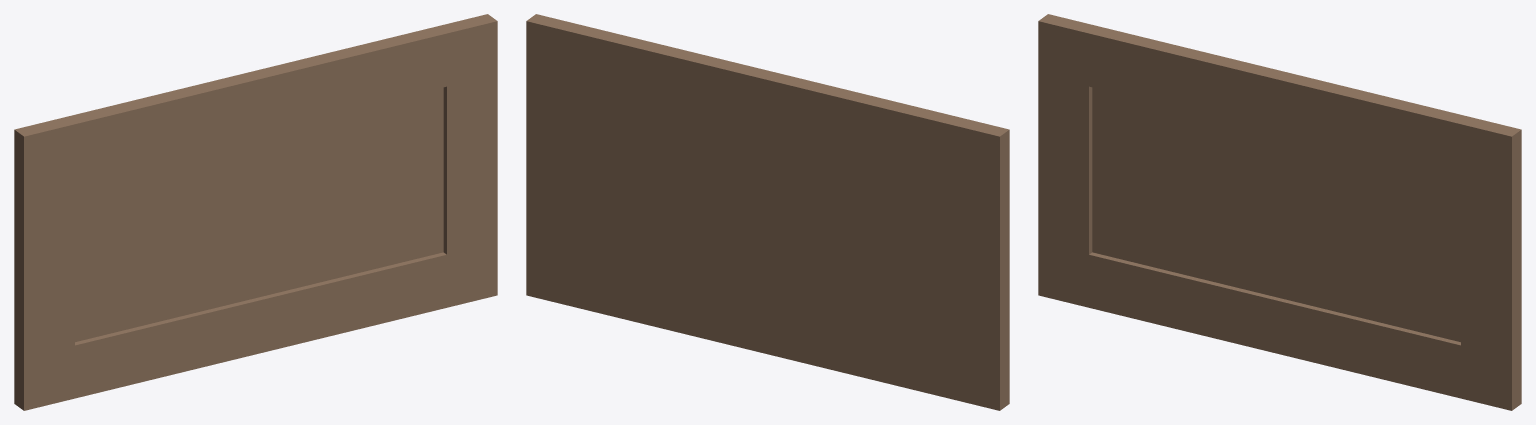
File: drawer_front_05.obj
3 renders of one model, left to right at view 1: azimuth 30°, elevation 25°; view 2: azimuth 150°, elevation 25°; view 3: azimuth 330°, elevation 25°, orthographic.
Visible parts, largest first — view 1: drawer_front_05; view 2: drawer_front_05; view 3: drawer_front_05.
Part boxes in pixels (bbox=[...]): drawer_front_05: bbox=[14, 14, 497, 410]; drawer_front_05: bbox=[526, 14, 1009, 410]; drawer_front_05: bbox=[1038, 14, 1521, 410].
Size of the model in its own units: 533 by 295 by 19.05.
